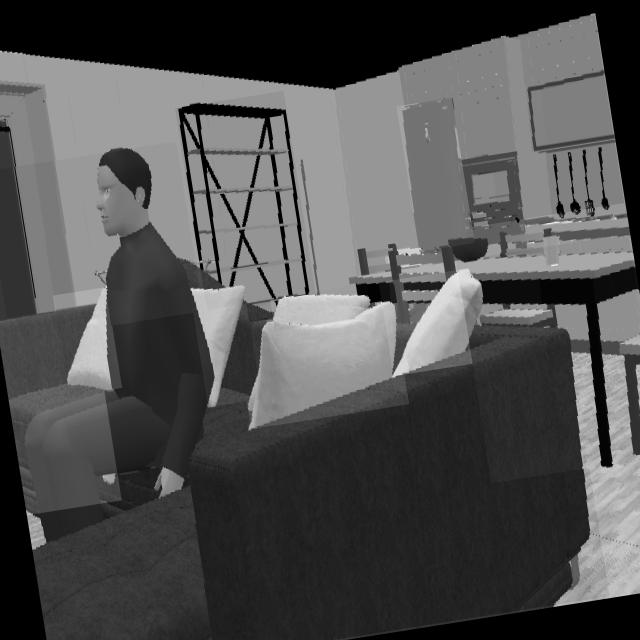cabinet: (399, 15, 615, 218)
fridge: (405, 98, 470, 249)
person: (26, 149, 214, 540)
pillow: (249, 303, 396, 429), (393, 270, 483, 375), (193, 285, 245, 407), (68, 290, 113, 390), (274, 296, 370, 326)
shelf: (180, 104, 316, 303)
sofa: (33, 305, 589, 640), (0, 307, 100, 514)
table: (458, 254, 638, 465)
